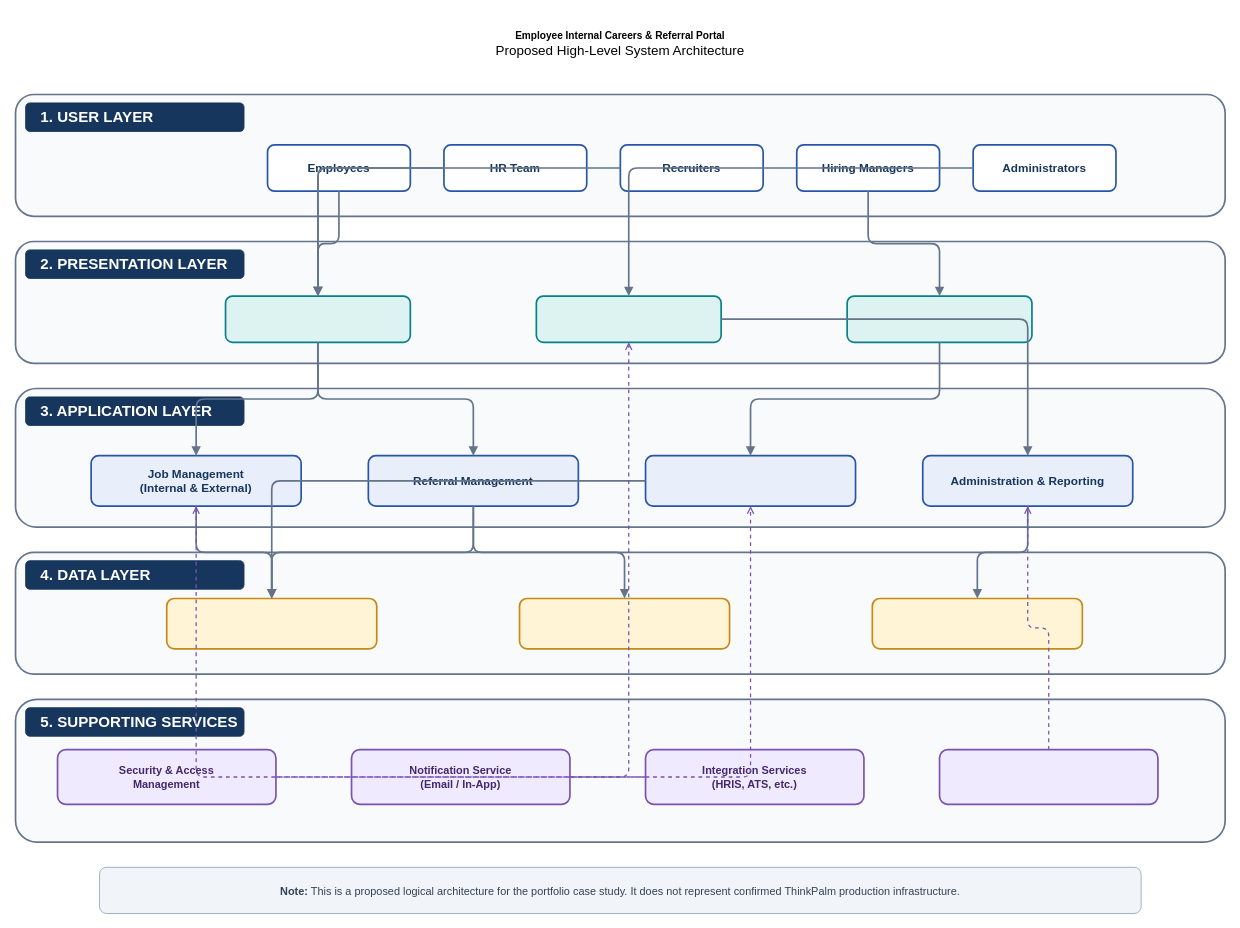
The diagram is 1240 pixels wide and 928 high, and some of its shapes have lost their labels. Here are the shapes that lost their labels. From the top down, the box of each, then its label:
(224, 295, 411, 343): Web Portal
(535, 295, 722, 343): Login & Authentication Interface
(846, 295, 1032, 343): Role-Based Dashboard
(644, 454, 856, 507): Application Tracking
(165, 597, 377, 649): Database (Jobs, Referrals, Users)
(518, 597, 730, 649): Document Storage (Resumes, Files)
(871, 597, 1083, 649): Analytics Data
(938, 748, 1158, 805): Monitoring & Logging
